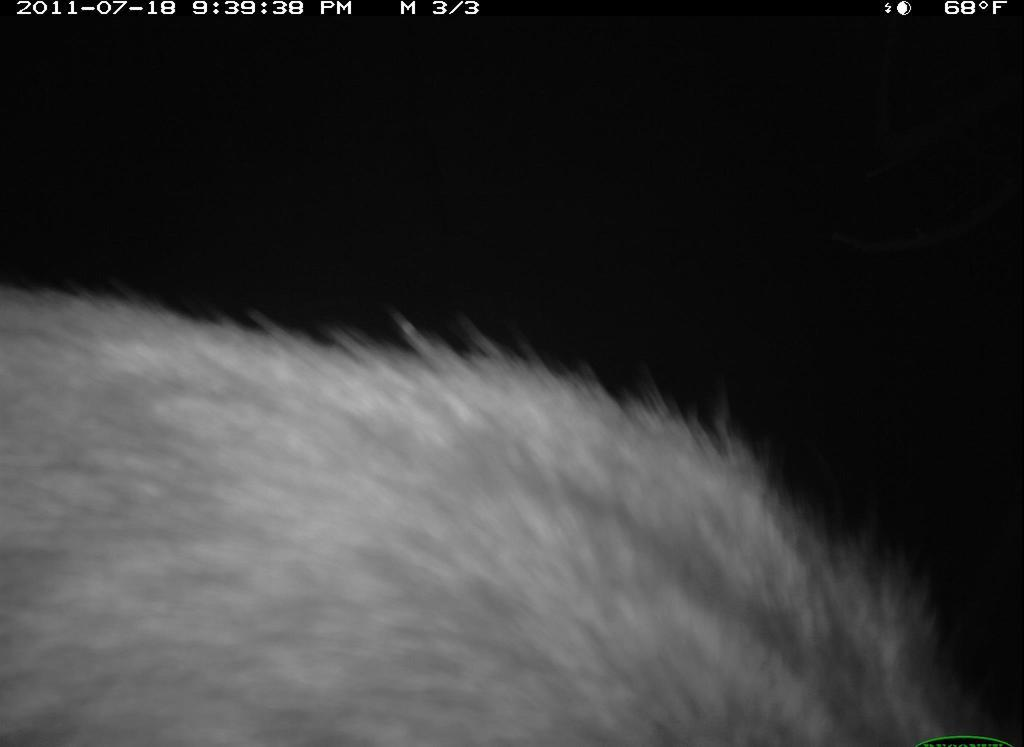raccoon: (1, 260, 1022, 747)
